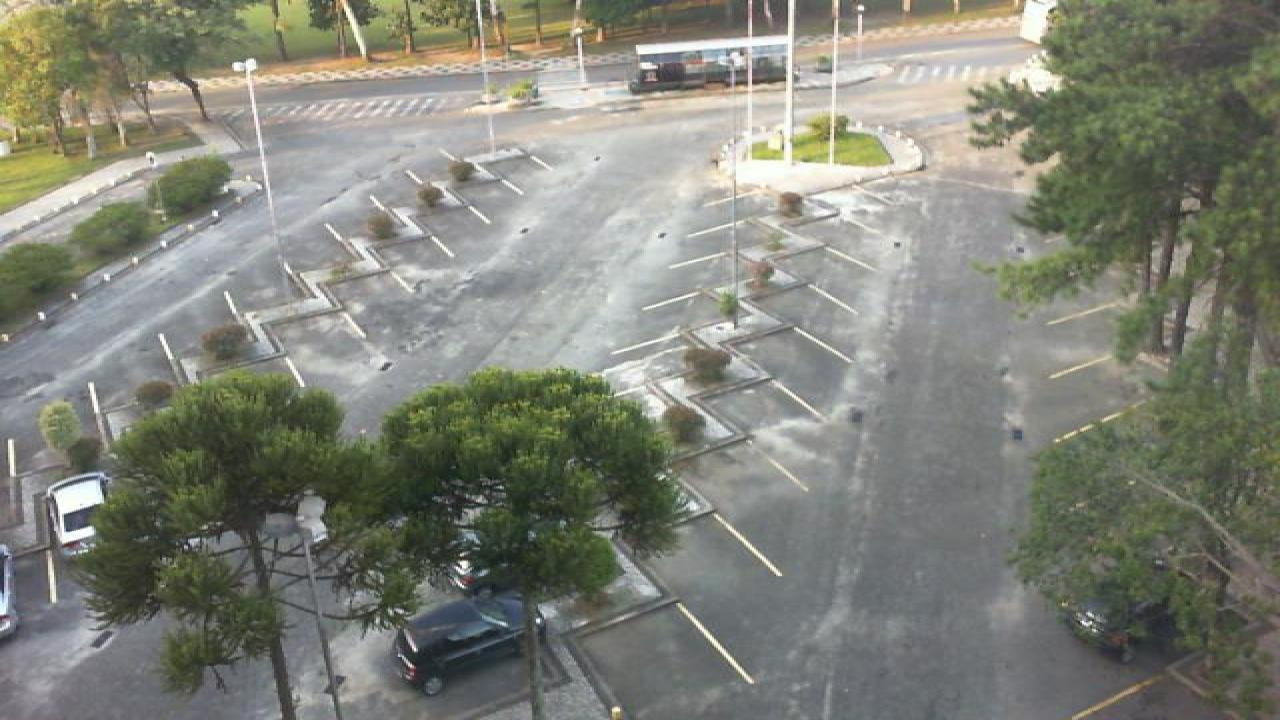Car: (390, 591, 530, 698), (1056, 590, 1166, 664), (44, 470, 114, 557), (446, 552, 494, 596), (0, 542, 20, 642)
